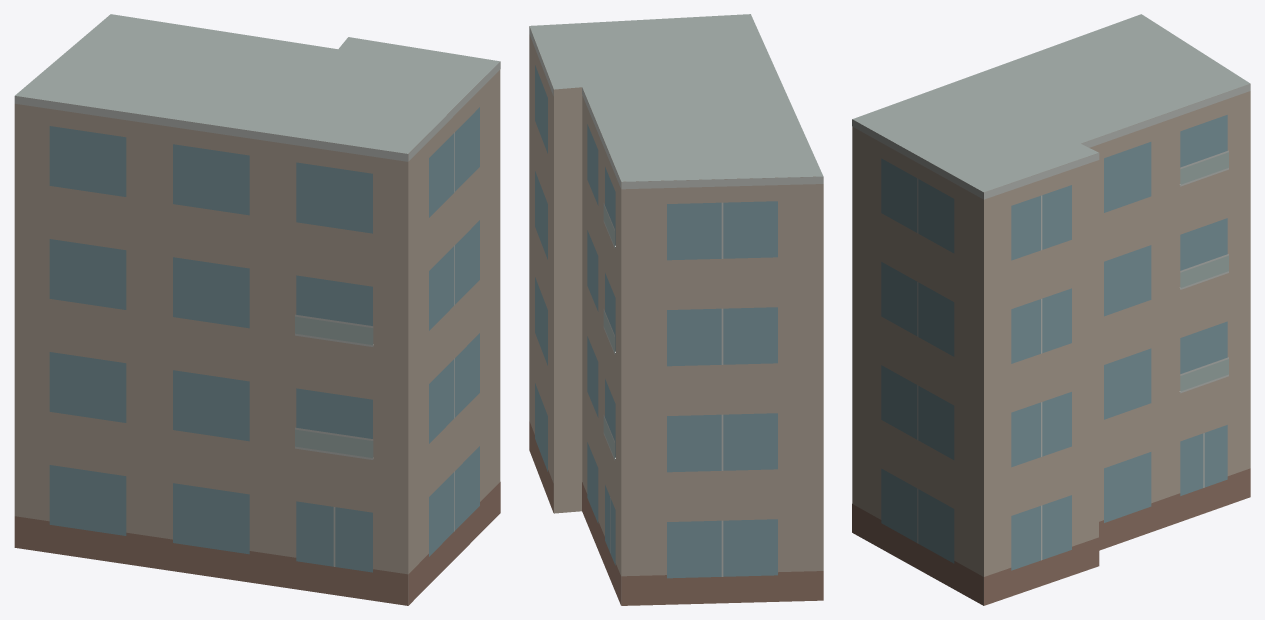
The model's file is survey-upis-32958918.glb.
The picture shows the model from 3 angles, left to right: view 1: azimuth 30°, elevation 25°; view 2: azimuth 150°, elevation 25°; view 3: azimuth 270°, elevation 25°; orthographic projection. The views are drawn at different scales.
Visible parts, largest first — view 1: survey-upis-32958918.tmp; view 2: survey-upis-32958918.tmp; view 3: survey-upis-32958918.tmp.
Part boxes in pixels (x1,y1,x2,y2): survey-upis-32958918.tmp: (14, 14, 500, 605); survey-upis-32958918.tmp: (529, 14, 823, 605); survey-upis-32958918.tmp: (852, 14, 1250, 605).
Size of the model in its own units: 12.87 by 13.9 by 12.15.
